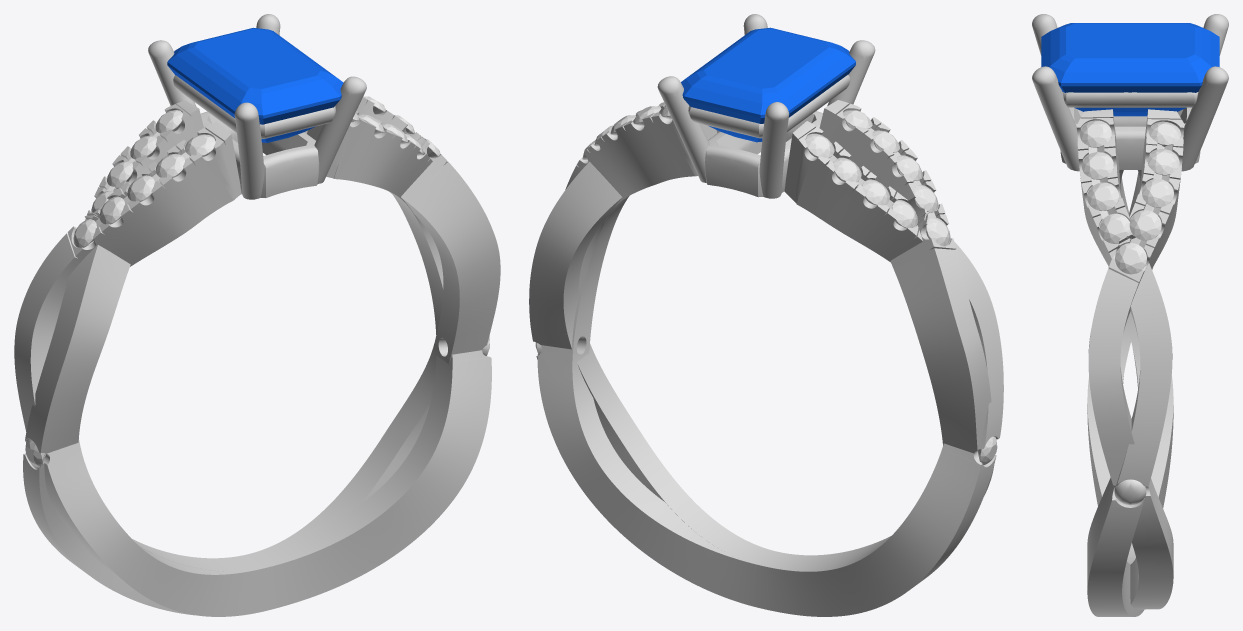
File: bluesapphire-emerald-platinum-4prong-twist-sidestones.glb
The picture shows the model from 3 angles, left to right: view 1: azimuth 30°, elevation 25°; view 2: azimuth 150°, elevation 25°; view 3: azimuth 270°, elevation 25°; orthographic projection.
Parts seen in each view (by area): view 1: metal, stone; view 2: metal, stone; view 3: metal, stone, side.015, side.016, side.017, side.012, side.011, side.013, side.014, side.018, side.010, side.019.
Boxes of the visible parts, <box> form: metal: <box>14,14,500,616</box>; stone: <box>167,27,343,142</box>; metal: <box>529,14,1003,616</box>; stone: <box>681,27,855,142</box>; metal: <box>1032,14,1228,616</box>; stone: <box>1041,23,1219,116</box>; side.015: <box>1115,243,1146,274</box>; side.016: <box>1129,210,1161,240</box>; side.017: <box>1142,179,1173,207</box>; side.012: <box>1087,182,1118,210</box>; side.011: <box>1099,213,1130,243</box>; side.013: <box>1082,152,1113,179</box>; side.014: <box>1080,120,1111,147</box>; side.018: <box>1147,149,1179,175</box>; side.010: <box>1114,479,1146,505</box>; side.019: <box>1149,122,1180,145</box>.
Bounding box in the file's own units: 19.97 × 22.74 × 7.4.
